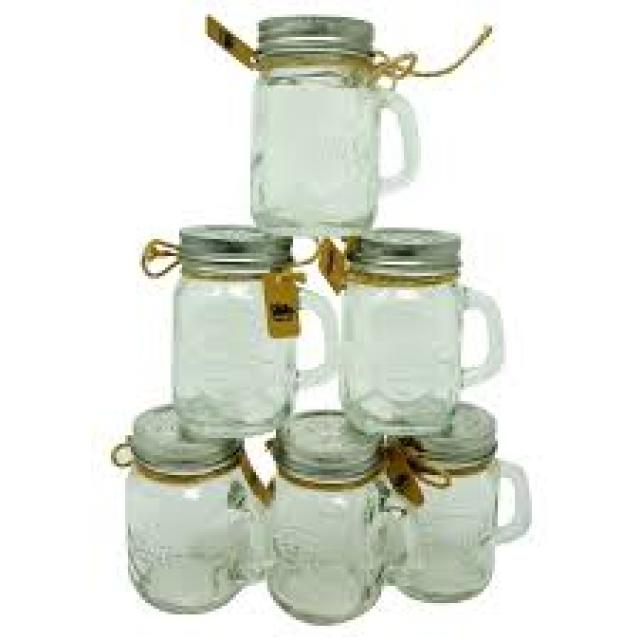glass: (248, 57, 418, 236), (336, 268, 504, 436), (173, 268, 330, 436), (384, 452, 529, 603), (122, 458, 262, 609), (265, 472, 407, 617)
metal: (267, 407, 384, 478), (128, 399, 236, 470), (387, 401, 492, 467), (341, 228, 458, 273), (256, 14, 367, 60), (179, 222, 290, 267)
